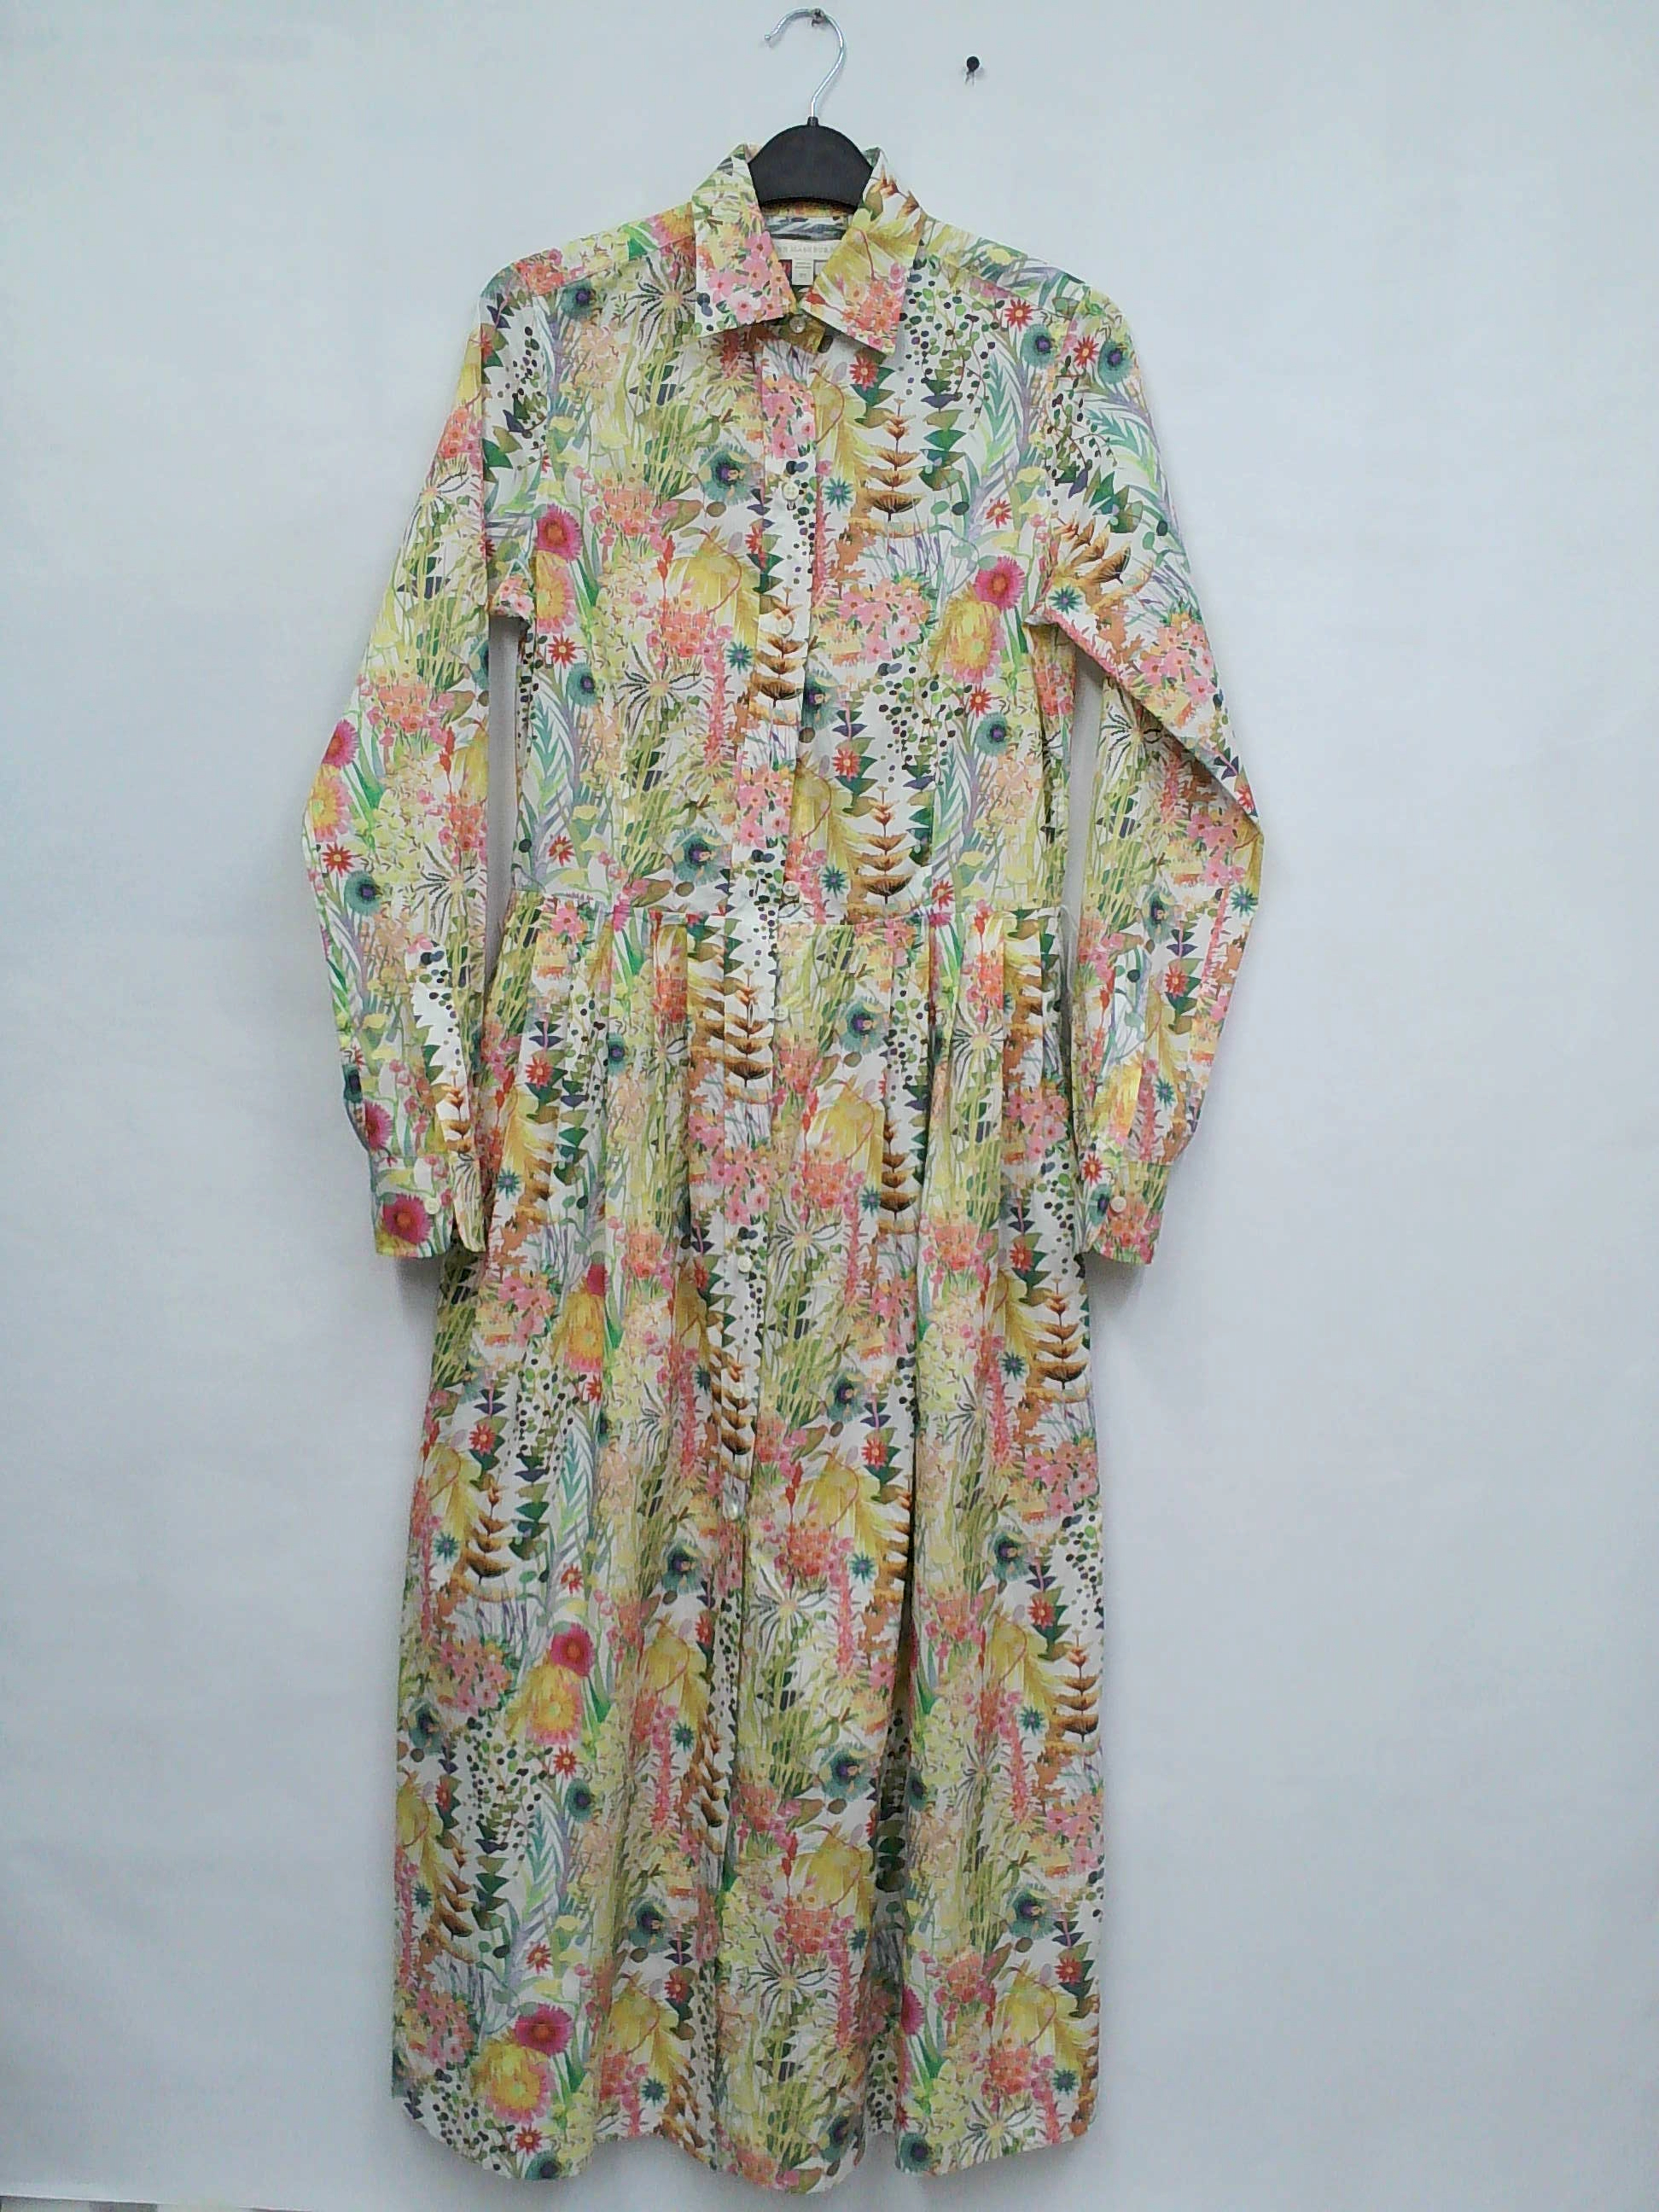structural: (605, 822, 753, 963)
